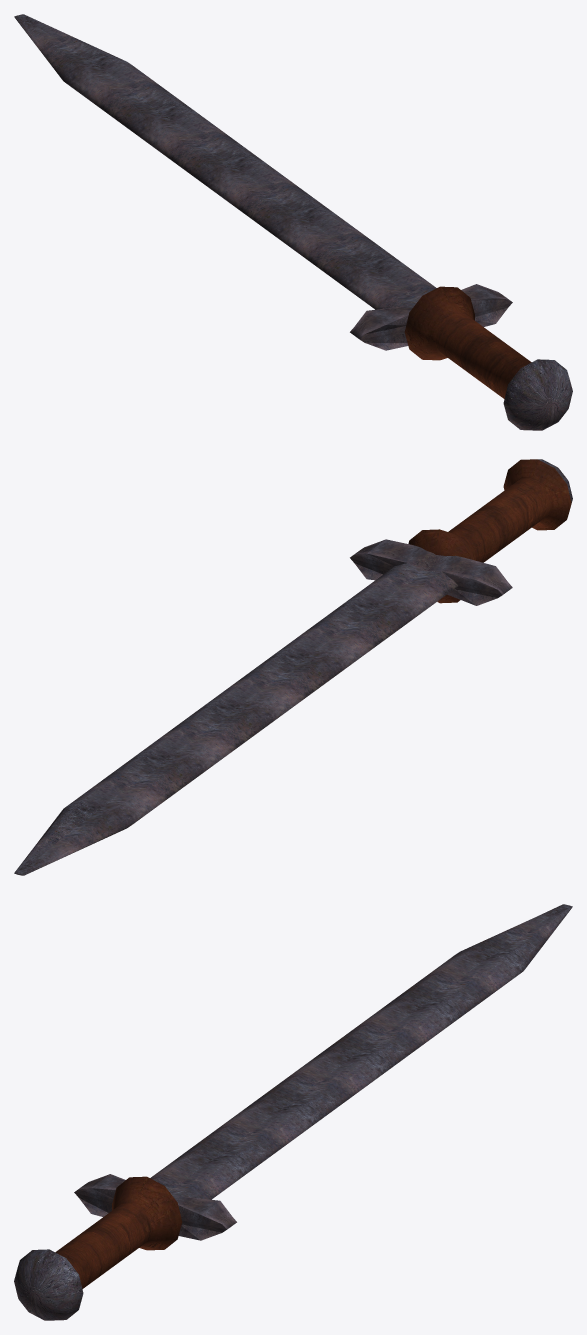
Rendered from IronSword.FBX.
The picture shows the model from 3 angles, top to bottom: view 1: azimuth 30°, elevation 25°; view 2: azimuth 150°, elevation 25°; view 3: azimuth 330°, elevation 25°; orthographic projection.
Parts seen in each view (by area): view 1: Cylinder001; view 2: Cylinder001; view 3: Cylinder001.
Part boxes in pixels (<box>): Cylinder001: <box>14,14,572,430</box>; Cylinder001: <box>14,459,572,875</box>; Cylinder001: <box>14,904,572,1320</box>.
Bounding box in the file's own units: 49.03 × 22.6 × 296.
Materials: 2 (2 with a texture image).
